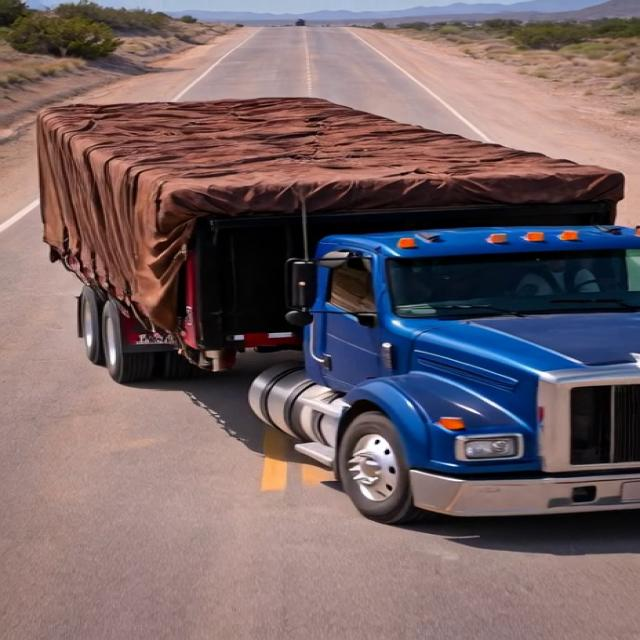trailer: (34, 87, 632, 217)
truck: (17, 63, 638, 513)
